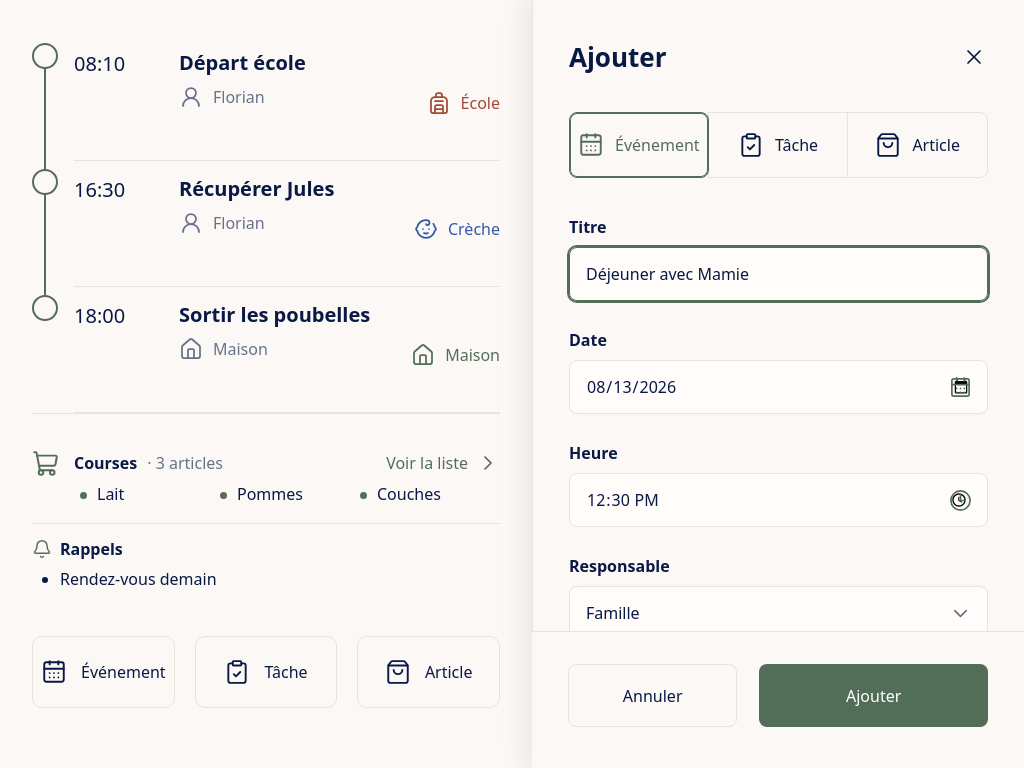
Test: does not redeliver the same granted reminder after UI rerenders or repository refreshes
The width and height of the screenshot is (1024, 768).
(page scrolled)
Step 1. Click the button "Événement" → (103, 672), box x1=32 y1=636 x2=175 y2=708
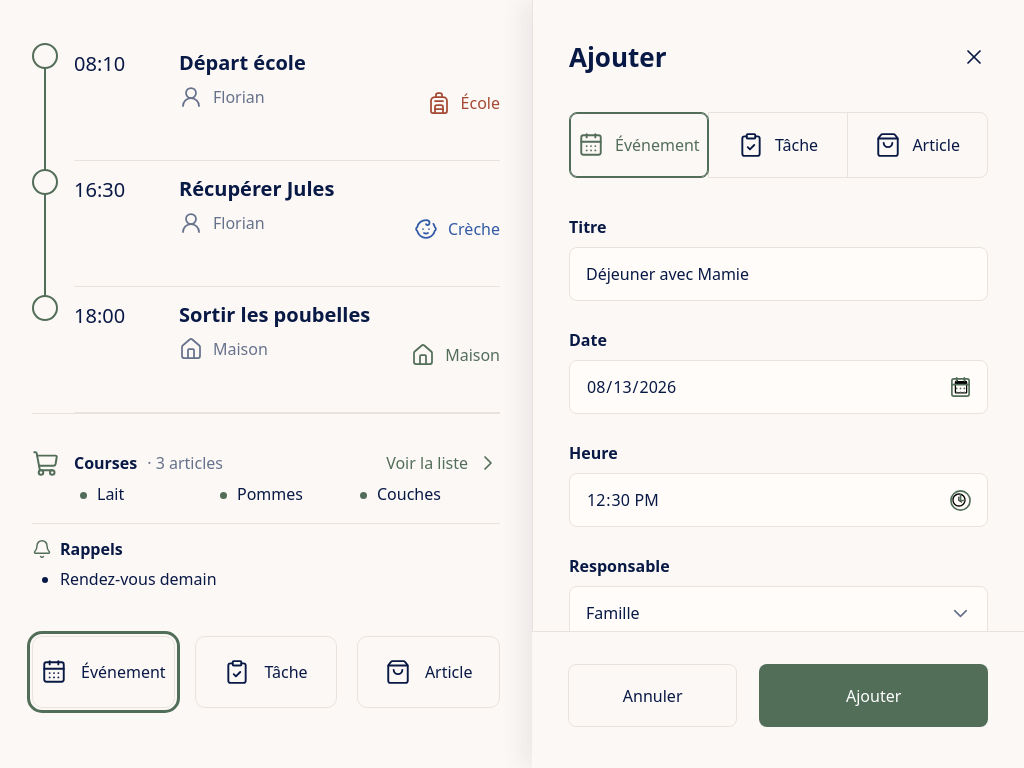
Step 2. Click the button named "Fermer" → (974, 57), box x1=952 y1=35 x2=996 y2=79
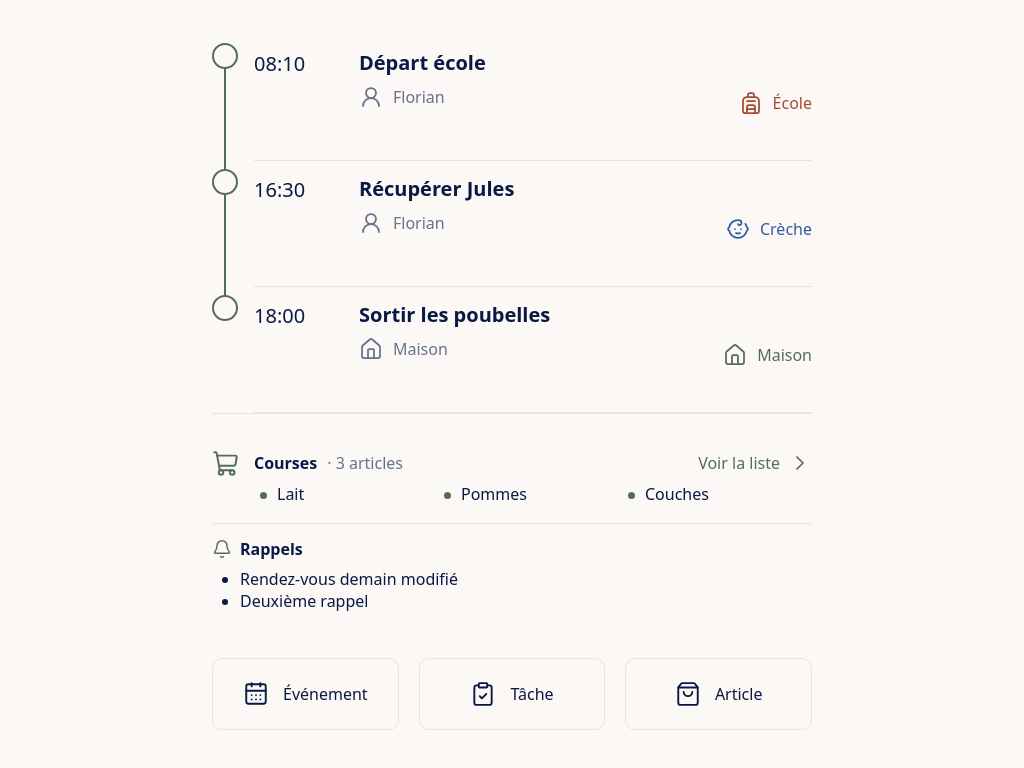
Expected: the list item "Rendez-vous demain modifié" is shown, x1=240 y1=568 x2=458 y2=590
Expected: the list item "Deuxième rappel" is shown, x1=240 y1=590 x2=368 y2=612
